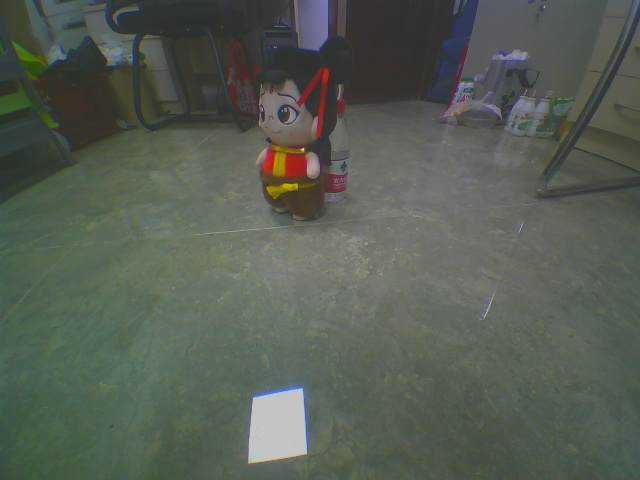Nezha2: (252, 33, 356, 225)
